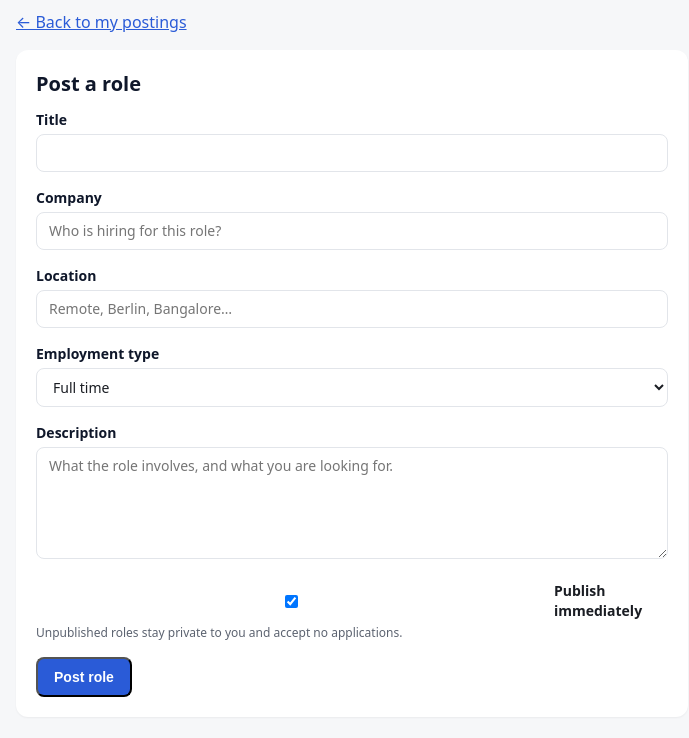
Test: JobFormPage — creating › shows the server field error when the client check passed
Type "Staff Engineer" into the field labelled "Title" at (352, 153), box [36, 134, 668, 172]
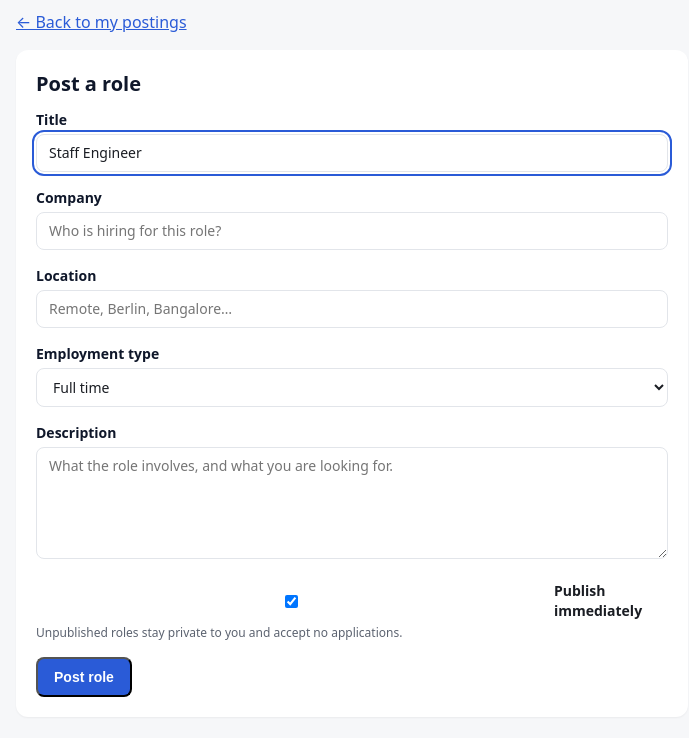
Type "Northwind Labs" into the field labelled "Company" at (352, 231), box [36, 212, 668, 250]
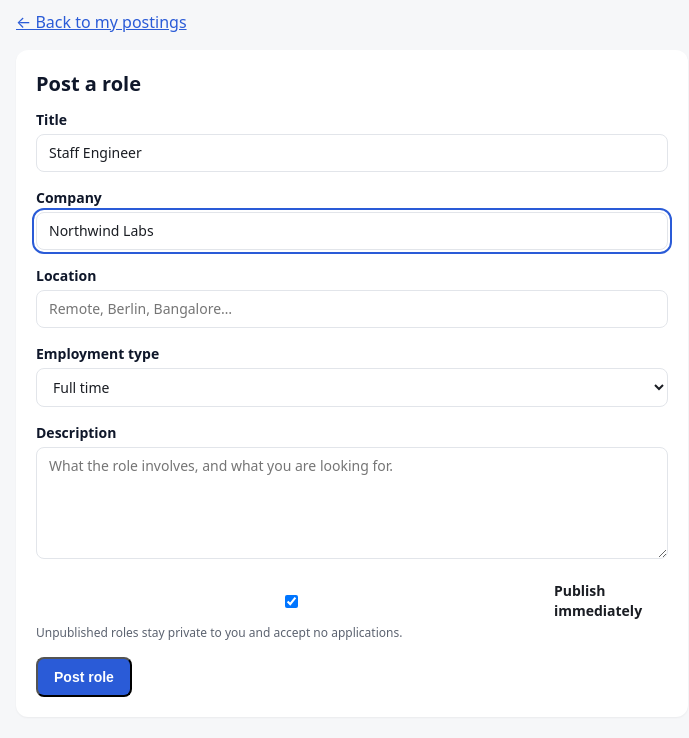
Type "Remote" into the field labelled "Location" at (352, 309), box [36, 290, 668, 328]
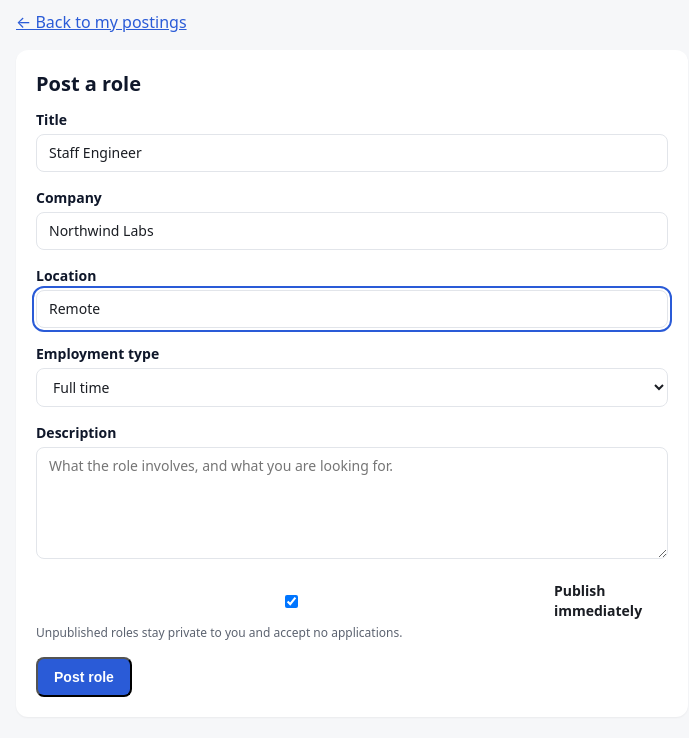
Type "Own the pipeline." into the text box labelled "Description" at (352, 503), box [36, 447, 668, 559]
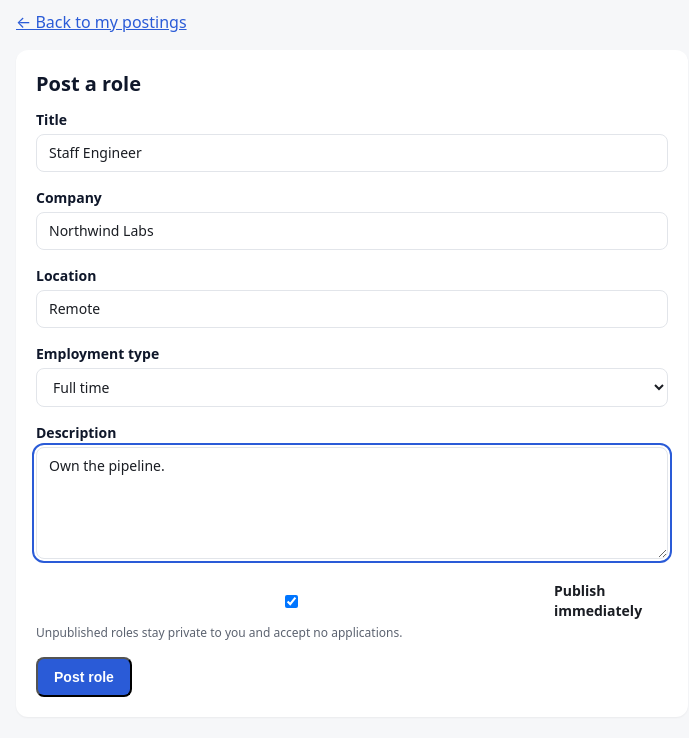
Click the button "Post role" at (84, 677), box [36, 657, 132, 697]
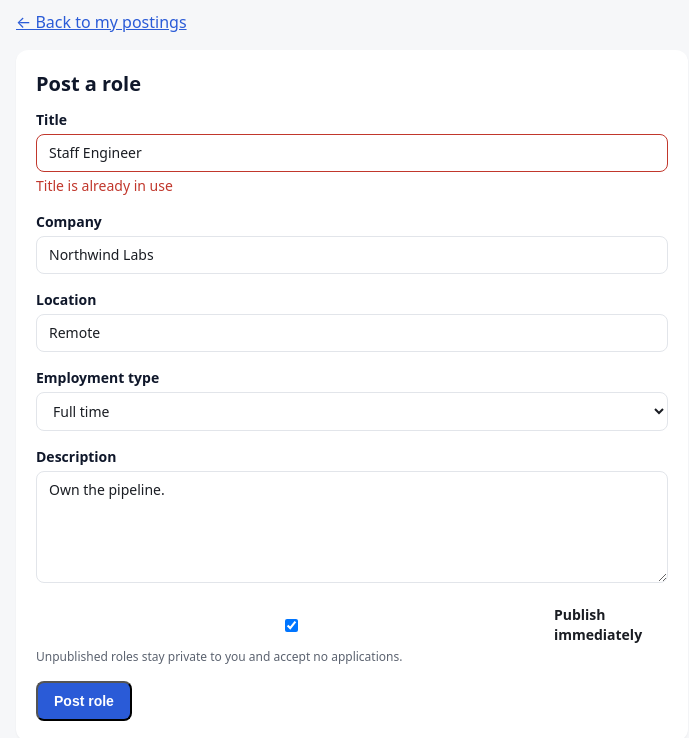
Expected: the text "Title is already in use" is shown, [36, 176, 173, 195]
